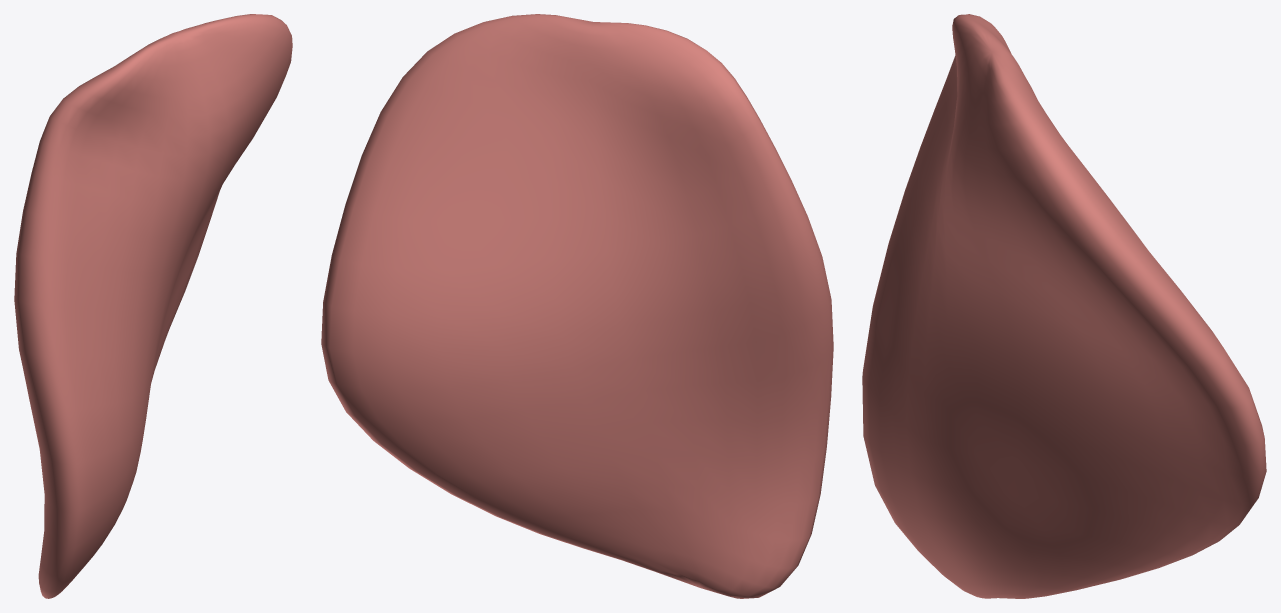
3 renders of one model, left to right at view 1: azimuth 30°, elevation 25°; view 2: azimuth 150°, elevation 25°; view 3: azimuth 270°, elevation 25°, orthographic. The views are drawn at different scales.
Visible parts, largest first — view 1: ZA_9690365a987cb901; view 2: ZA_9690365a987cb901; view 3: ZA_9690365a987cb901.
Part boxes in pixels (x1,y1,x2,y2): ZA_9690365a987cb901: (14,14,292,598); ZA_9690365a987cb901: (321,14,833,598); ZA_9690365a987cb901: (862,14,1266,598).
Bounding box in the file's own units: 0.0155 × 0.0223 × 0.0131.
